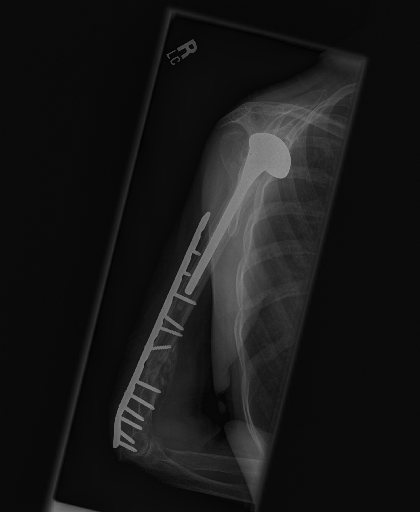implant: (113, 210, 216, 454), (185, 130, 291, 295)
